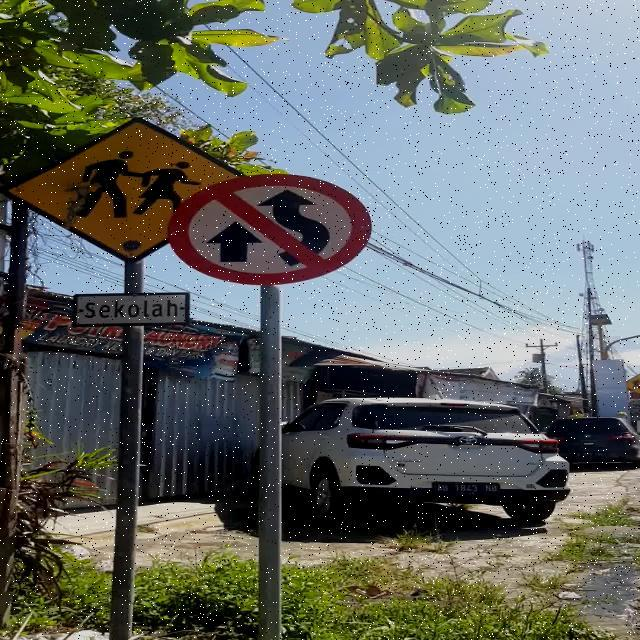Dilarang Mendahului: (167, 174, 372, 286)
